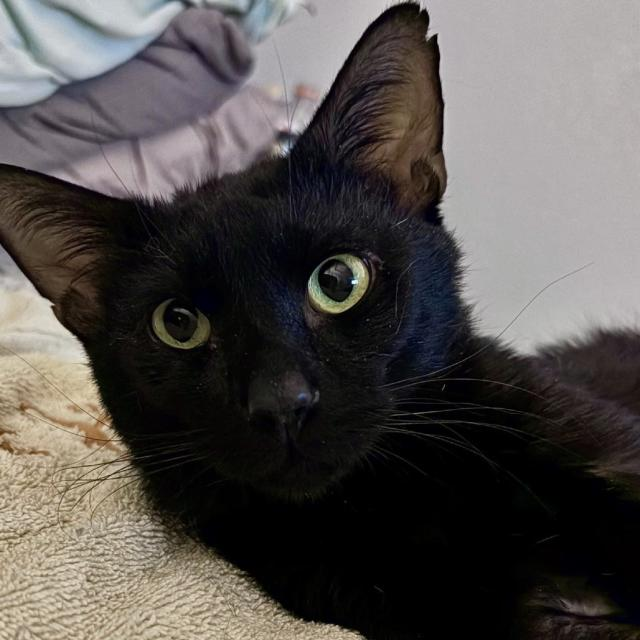bombay_cat: (0, 0, 473, 547)
